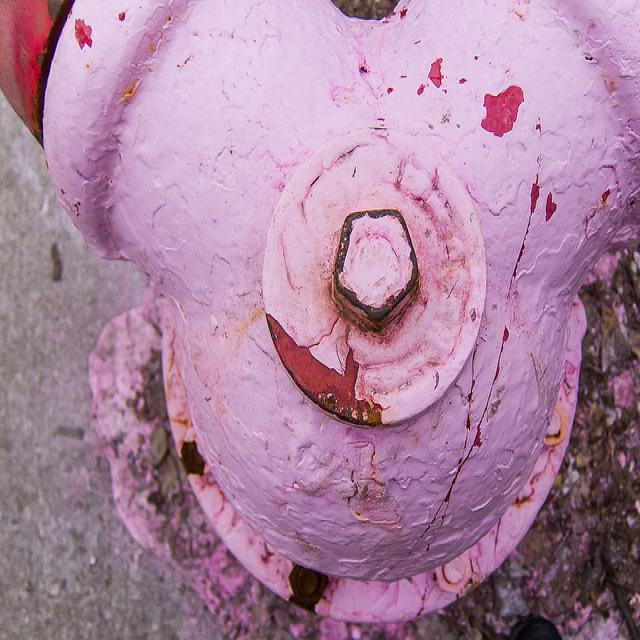fire_hydrant: (0, 1, 640, 620)
